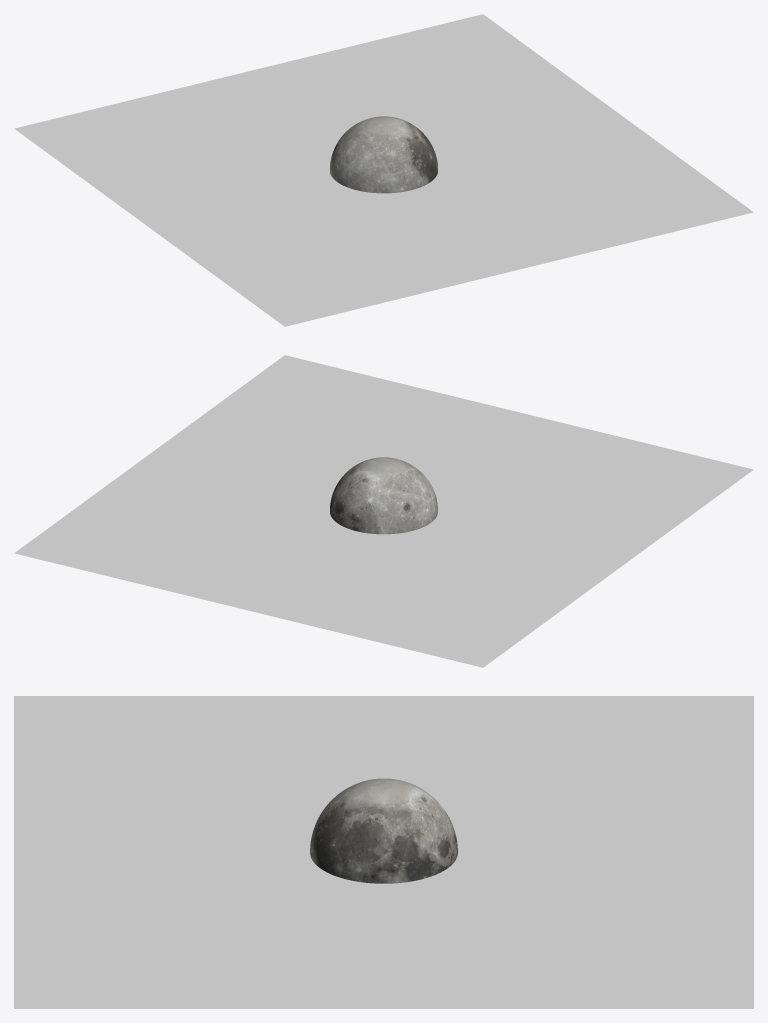
File: moonAndPlane.glb
3 views of the same model, one above another, from view 1: azimuth 30°, elevation 25°; view 2: azimuth 150°, elevation 25°; view 3: azimuth 270°, elevation 25° (orthographic). The views are drawn at different scales.
Parts seen in each view (by area): view 1: waterPlane, moon; view 2: waterPlane, moon; view 3: waterPlane, moon.
Part boxes in pixels (x1,y1,x2,y2): waterPlane: [14, 14, 753, 326]; moon: [330, 116, 437, 193]; waterPlane: [14, 355, 753, 667]; moon: [330, 457, 437, 534]; waterPlane: [14, 696, 753, 1008]; moon: [310, 778, 457, 883].
Size of the model in its own units: 10 by 2 by 10.
1 material, 1 textured.
